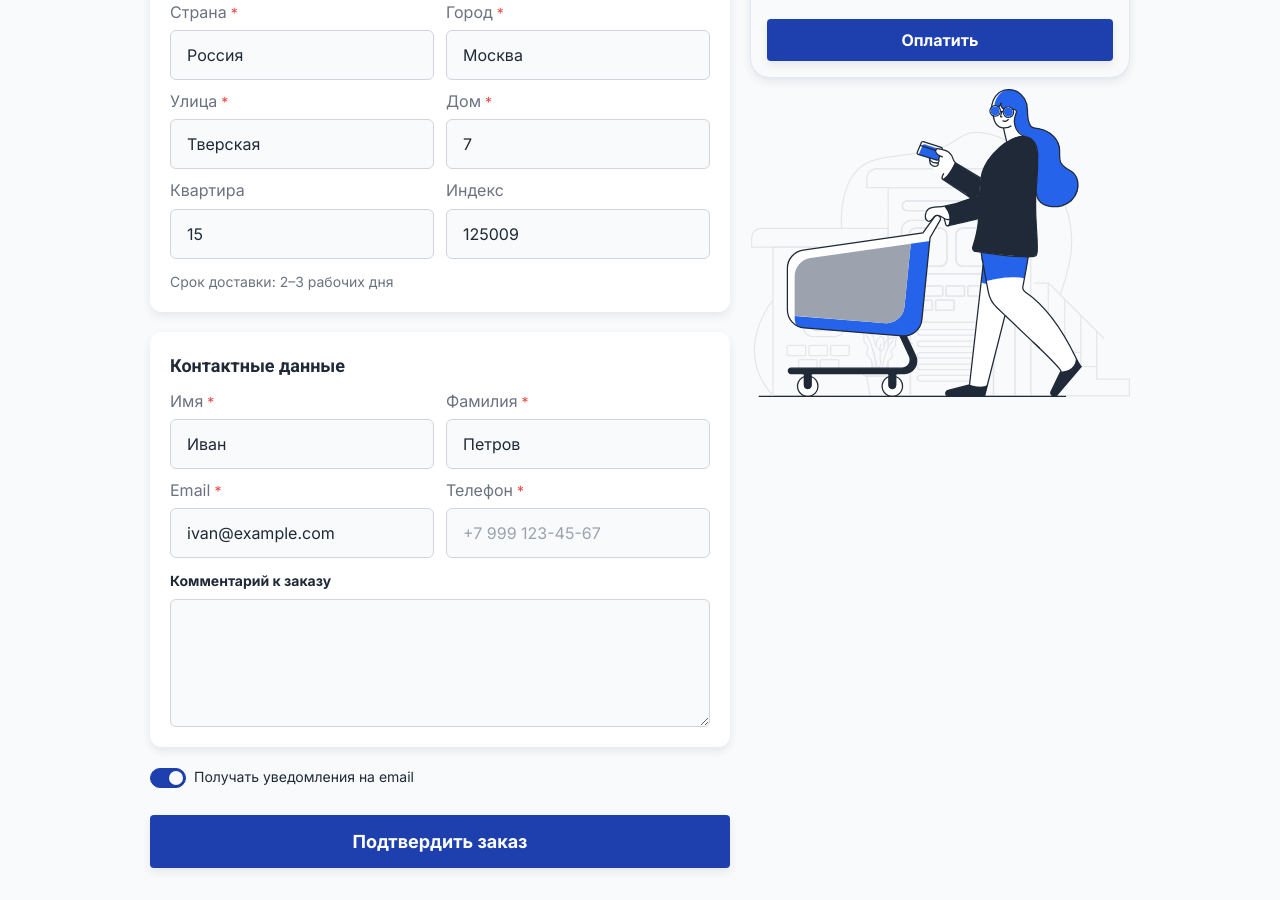
Test case: CheckoutPage validation feedback › clears a phone error when a valid number is entered
(page scrolled)
Click the button "Подтвердить заказ": (440,841) [150,815,730,868]
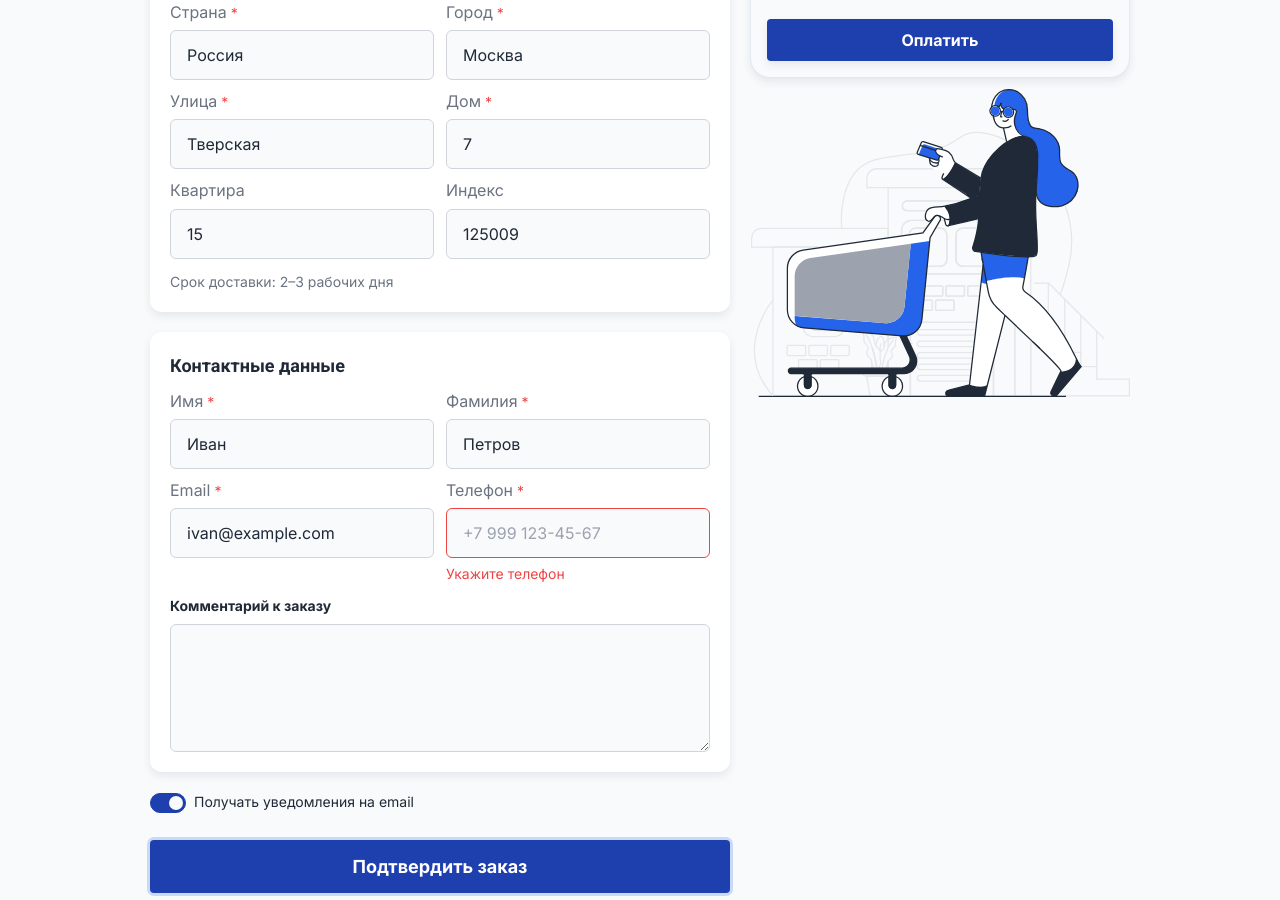
Now the text "Укажите телефон" is shown, box [446,565,565,582]
In the field labelled "Телефон *": (578,533) [446,508,710,558], type "9854806003"
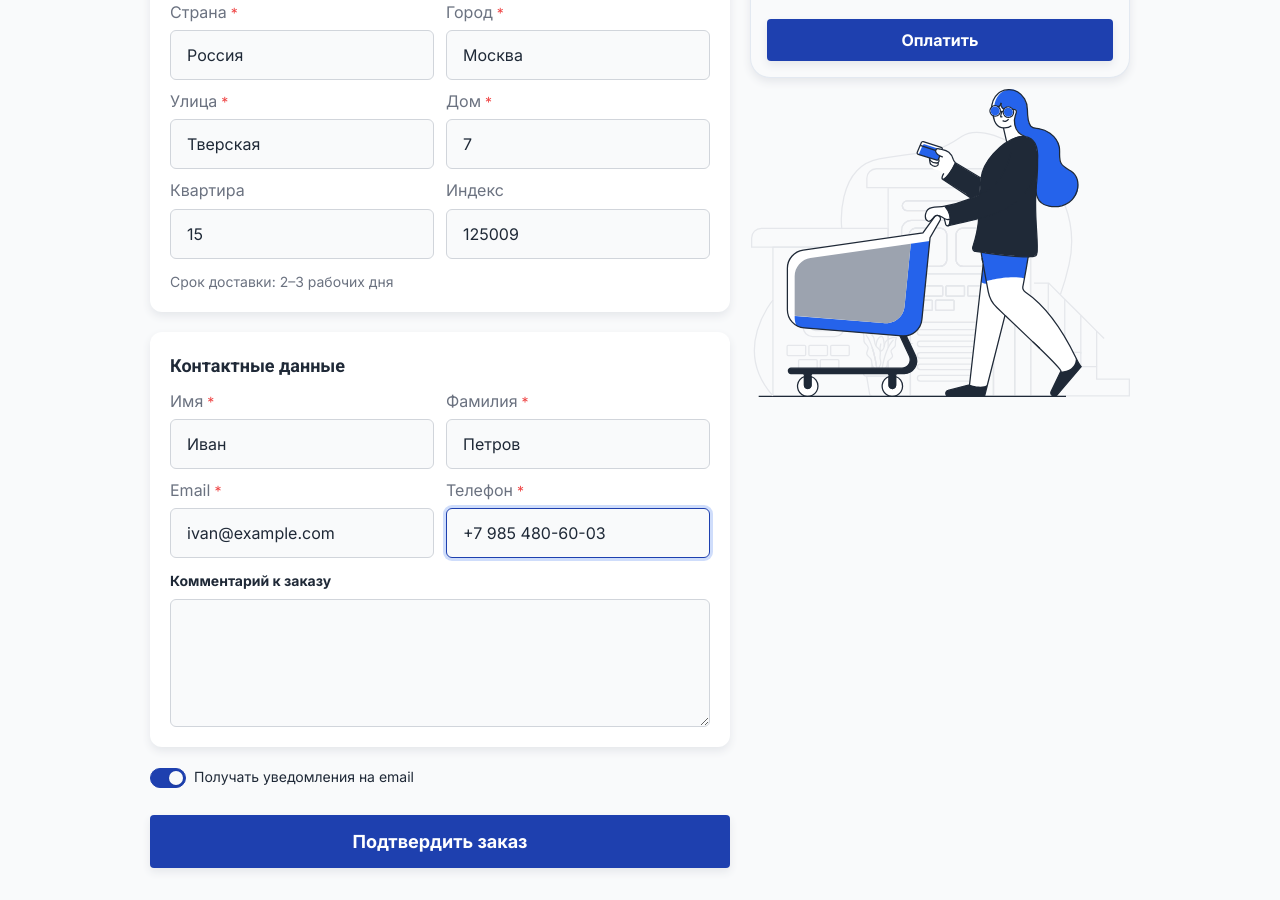
Now the text "Укажите телефон" is gone
